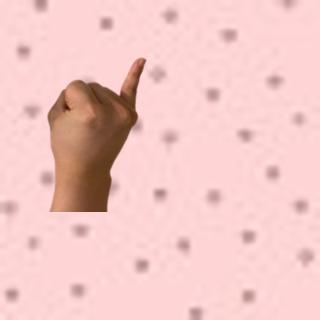FINE: (41, 53, 152, 201)
